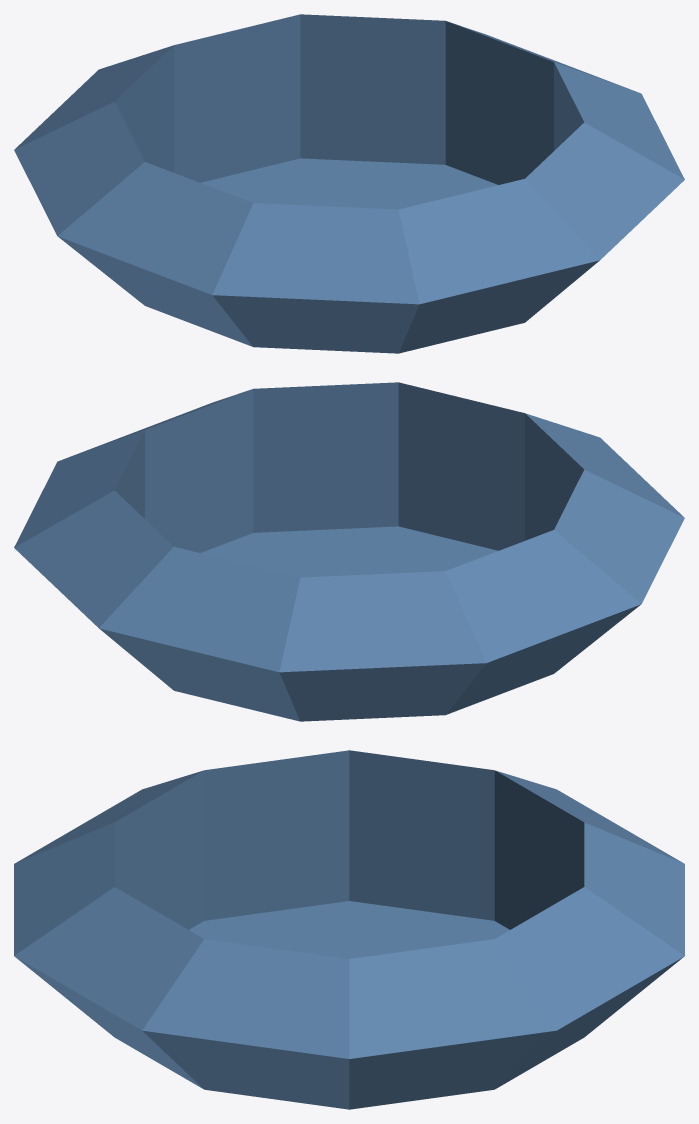
The model's file is research-building.fbx.
3 views of the same model, one above another, from view 1: azimuth 30°, elevation 25°; view 2: azimuth 150°, elevation 25°; view 3: azimuth 270°, elevation 25° (orthographic). The views are drawn at different scales.
Parts seen in each view (by area): view 1: Torus; view 2: Torus; view 3: Torus.
Part boxes in pixels (box(x1,y1,x2,y2)): Torus: box(14, 14, 684, 353); Torus: box(14, 382, 684, 721); Torus: box(14, 750, 684, 1109).
Size of the model in its own units: 3.04 by 0.7163 by 2.89.
